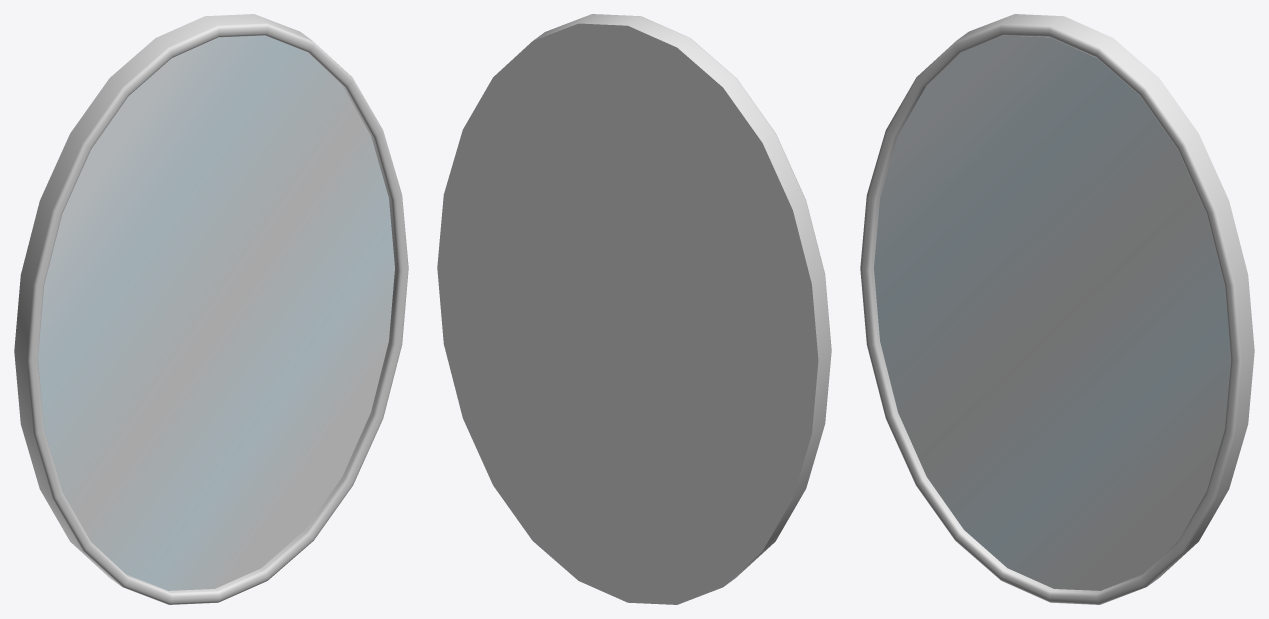
Rendered from Espelho Oval.fbx.
3 views of the same model, side by side, from view 1: azimuth 30°, elevation 25°; view 2: azimuth 150°, elevation 25°; view 3: azimuth 330°, elevation 25° (orthographic).
Parts seen in each view (by area): view 1: EspelhoOvalTela, EspelhoOval; view 2: EspelhoOval; view 3: EspelhoOvalTela, EspelhoOval.
Boxes of the visible parts, left/top/right/bottom form: EspelhoOvalTela: left=38, top=35, right=394, bottom=590; EspelhoOval: left=14, top=14, right=408, bottom=604; EspelhoOval: left=437, top=14, right=831, bottom=604; EspelhoOvalTela: left=874, top=35, right=1230, bottom=590; EspelhoOval: left=860, top=14, right=1254, bottom=604.
Bounding box in the file's own units: 60 × 86.8 × 4.
